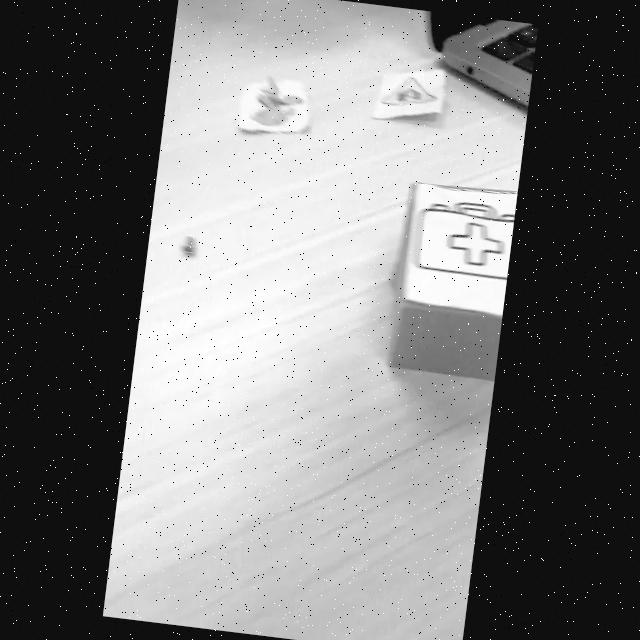Medkit: (415, 202, 514, 279)
